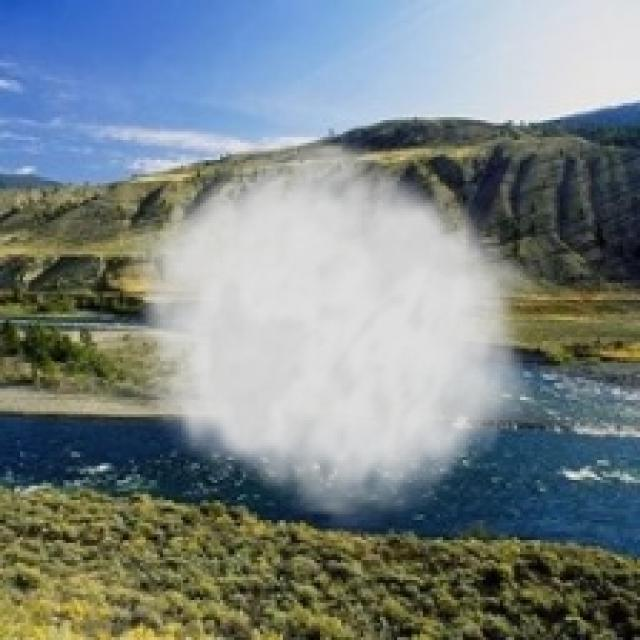smoke: (114, 126, 540, 537)
